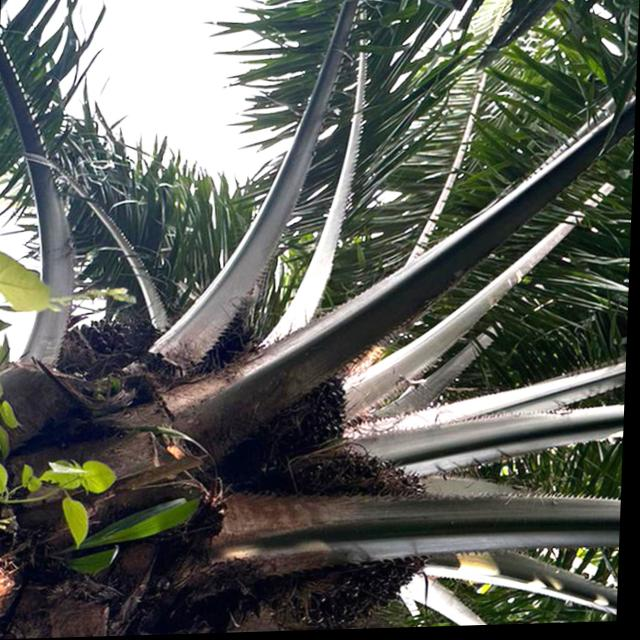almost: (260, 444, 460, 634), (229, 344, 363, 483)
